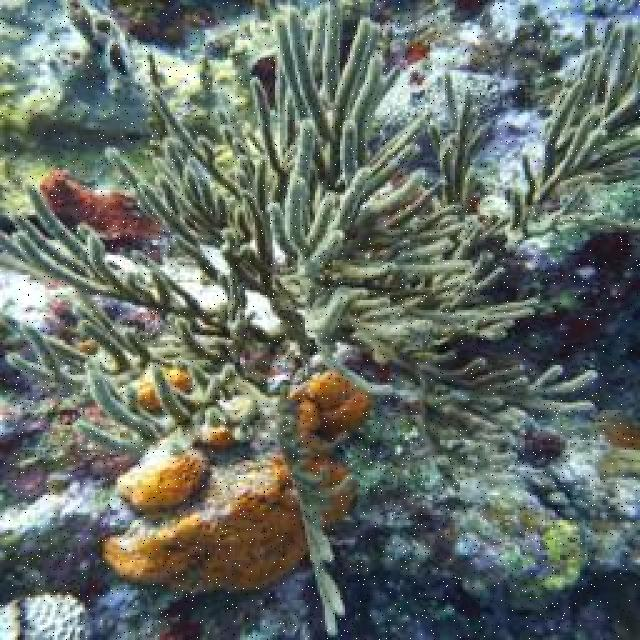fish: (395, 42, 431, 72)
reefs: (144, 1, 599, 412), (0, 147, 286, 460), (103, 422, 353, 594), (508, 17, 638, 253), (429, 74, 499, 212), (42, 169, 160, 244), (290, 371, 368, 446), (142, 371, 191, 410)
